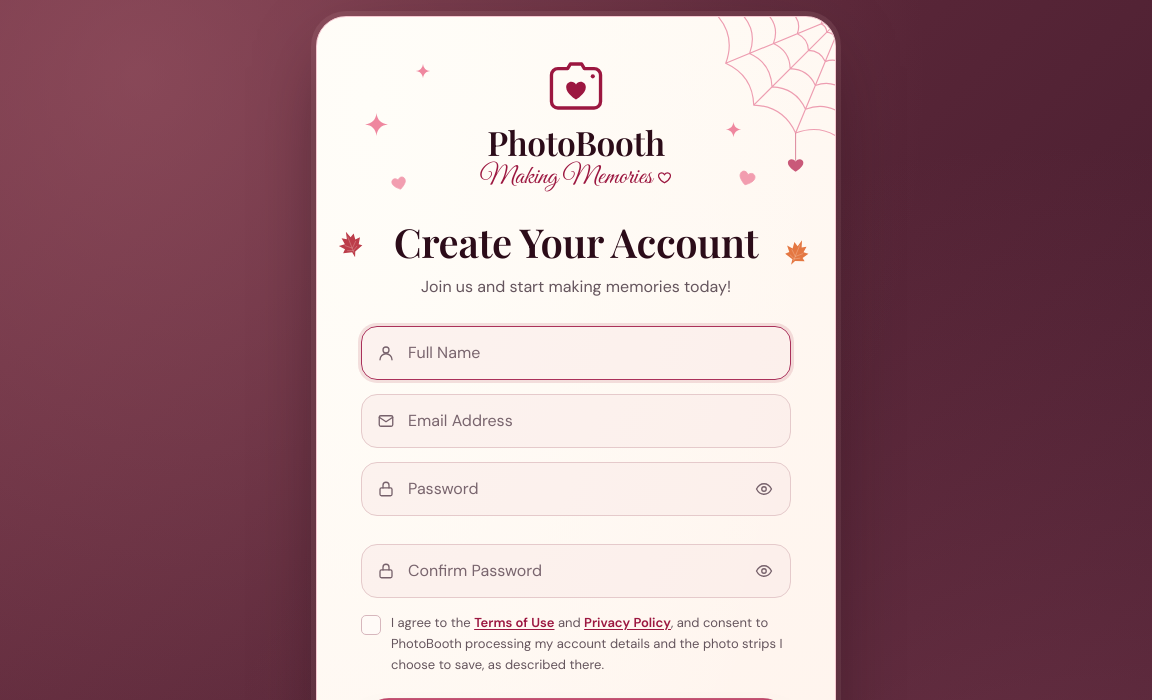
email signup carries Premium pricing into the confirmation URL and the login fallback
Later steps or results of the test are not shown.
Type "Alex Example" into the field labelled "Full Name" at x=576, y=353, box [361,326,791,380]
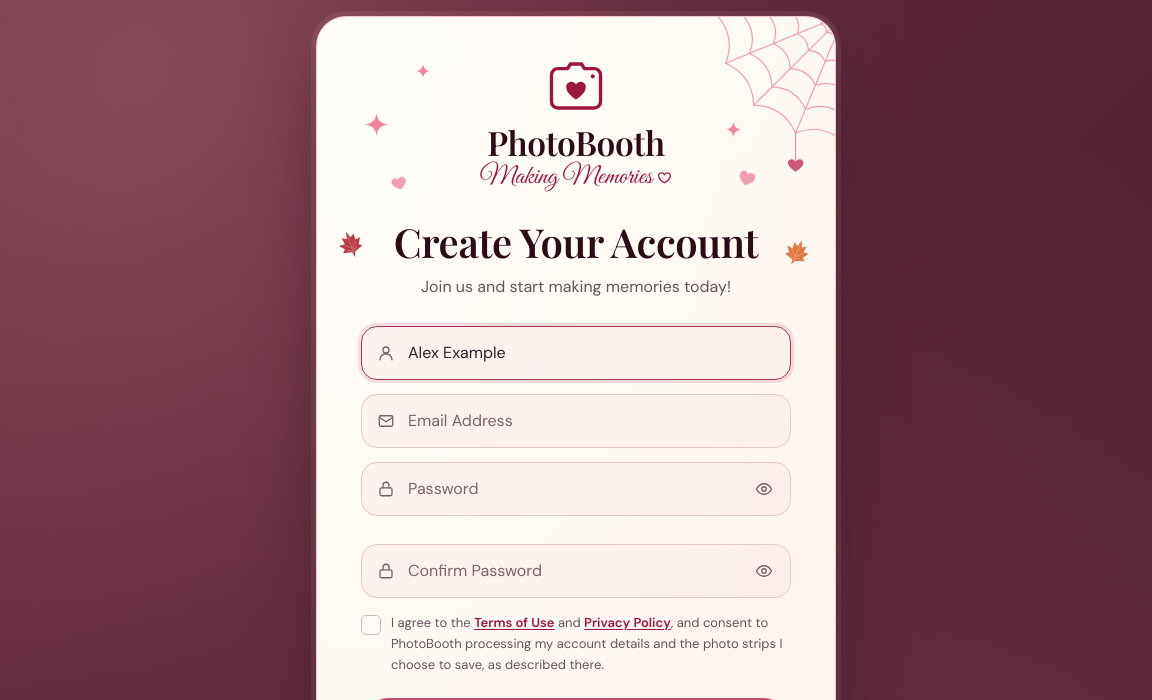
Type "qa@example.test" into the field labelled "Email Address" at x=576, y=421, box [361,394,791,448]
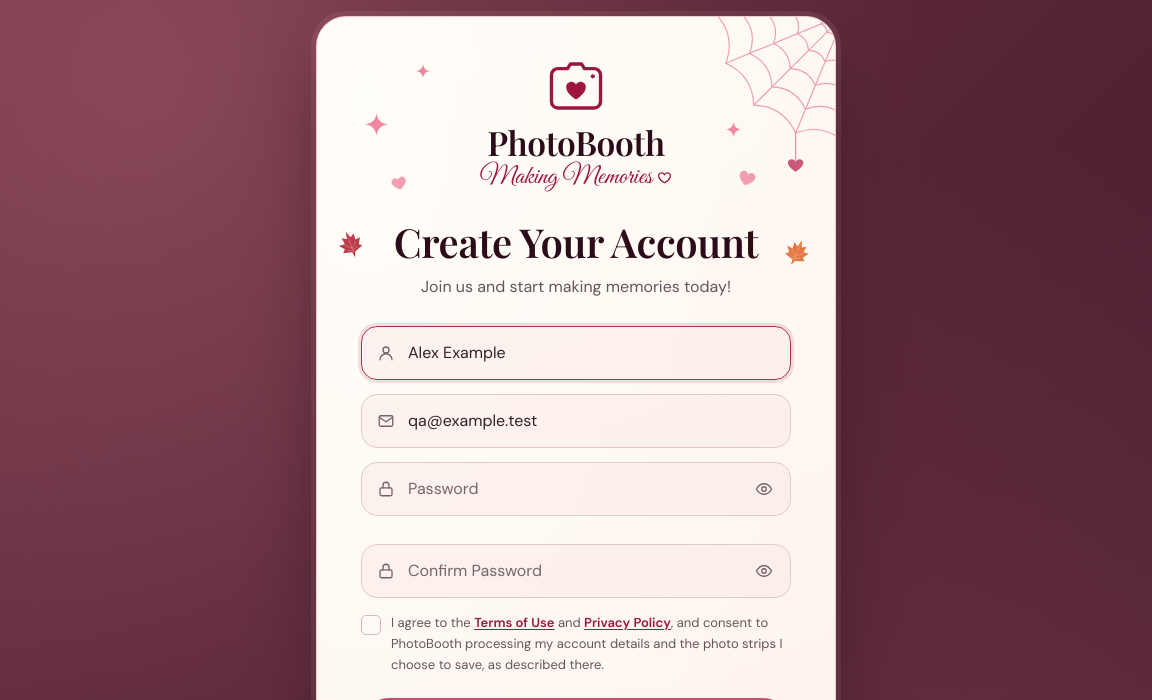
Type "ExamplePassword123!" into the password field labelled "Password" at x=576, y=489, box [361,462,791,516]
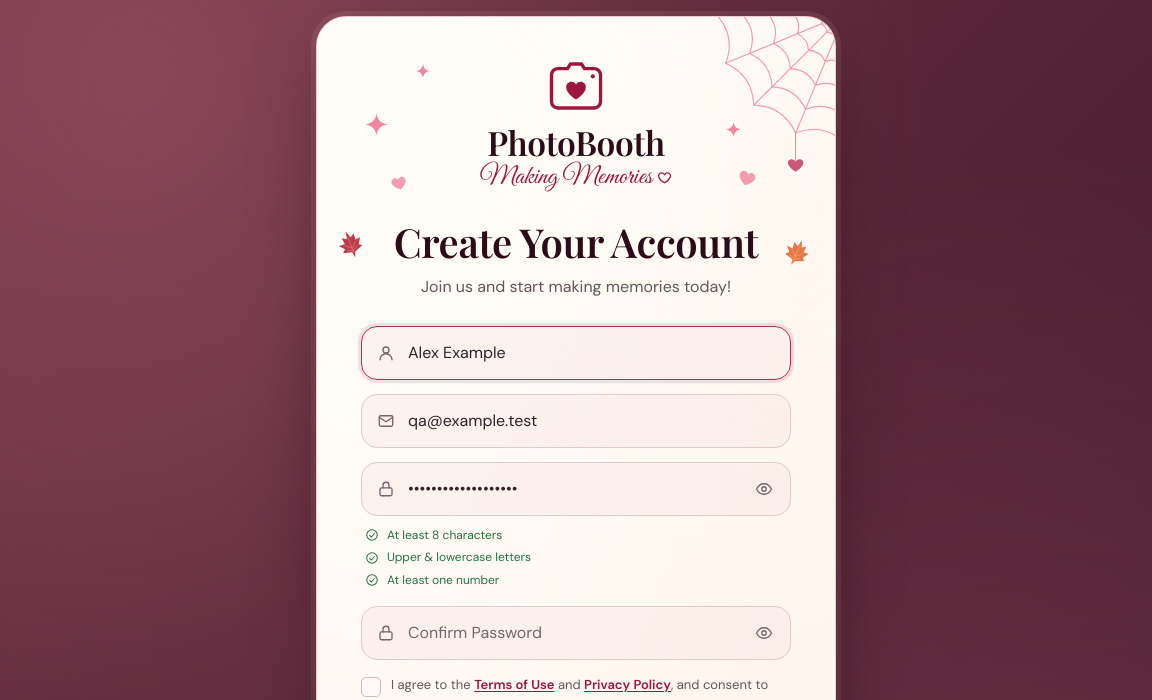
Type "ExamplePassword123!" into the password field labelled "Confirm Password" at x=576, y=633, box [361,606,791,660]
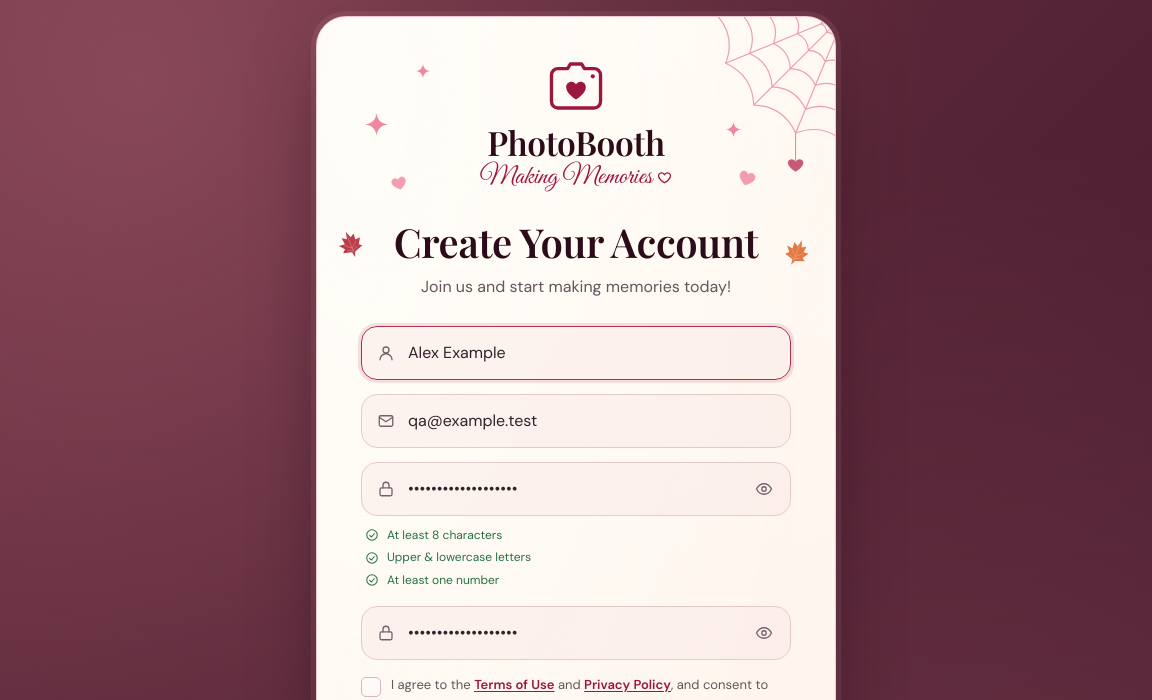
Click the checkbox labelled "agree" at x=371, y=687, box [361,677,381,697]
(page scrolled)
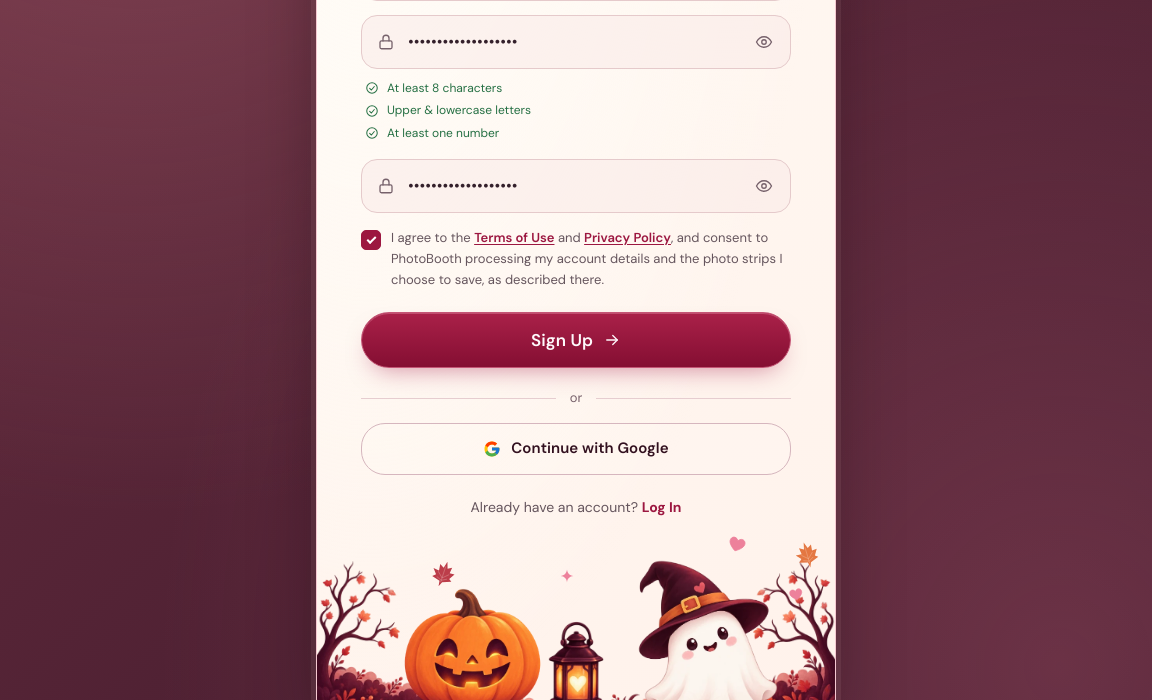
Click the button "Sign Up" at x=576, y=340, box [361,312,791,368]
(page scrolled)
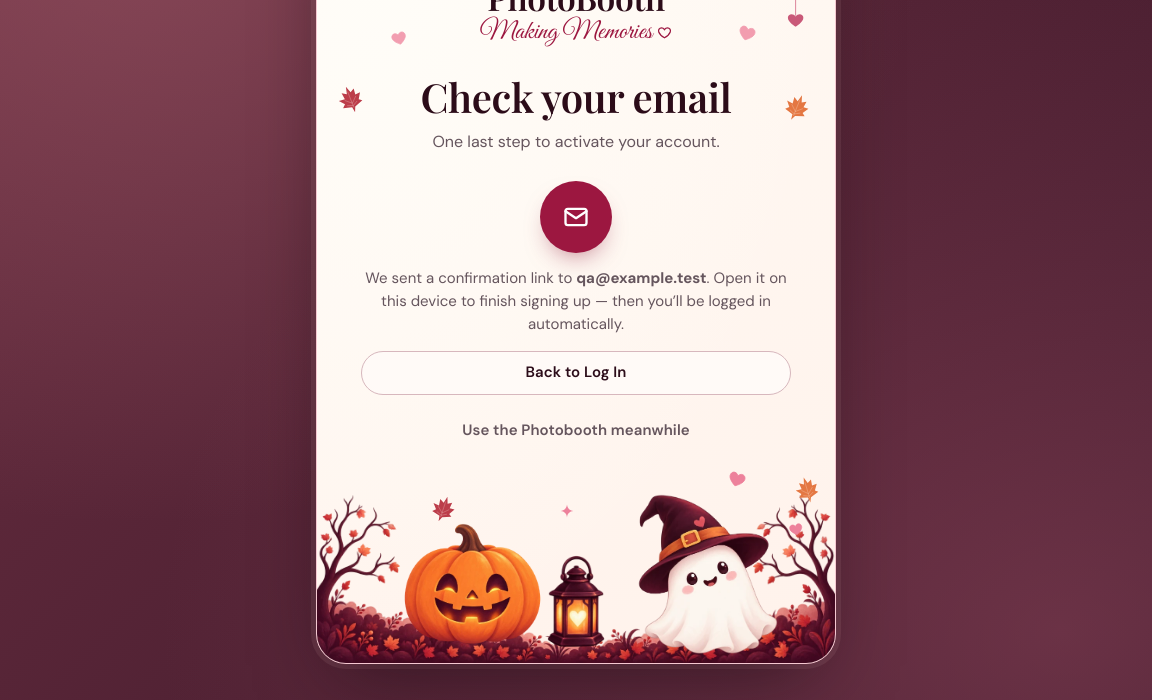
Now the heading "Check your email" is shown, box [420,70,732,123]
